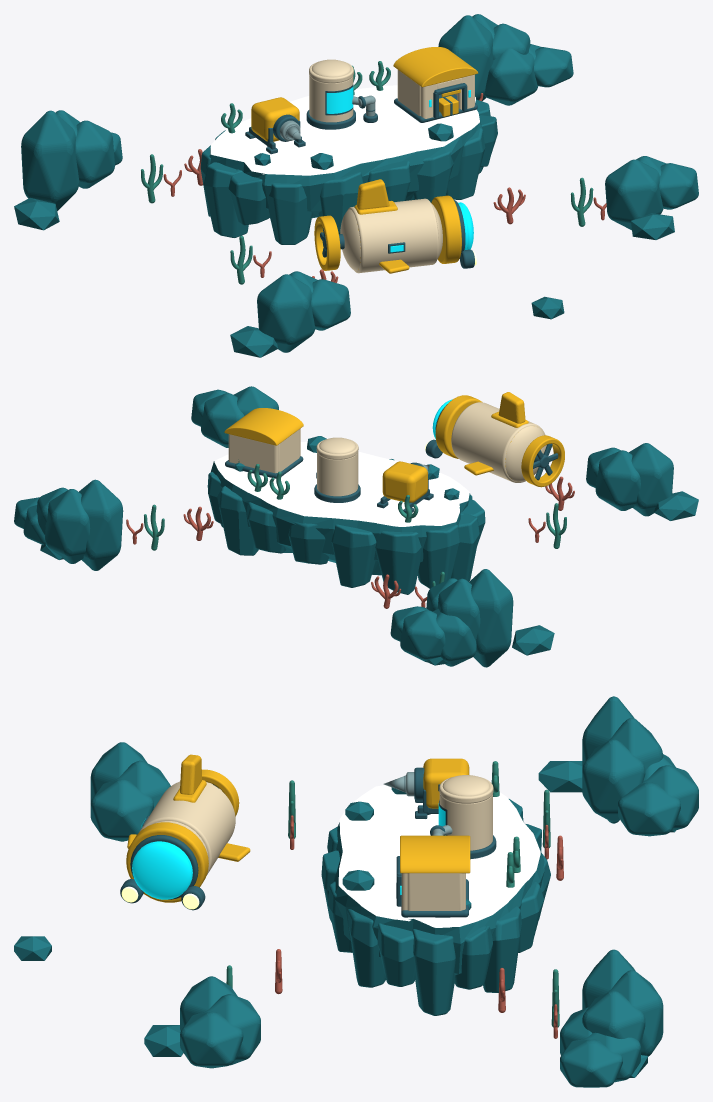
The picture shows the model from 3 angles, top to bottom: view 1: azimuth 30°, elevation 25°; view 2: azimuth 150°, elevation 25°; view 3: azimuth 270°, elevation 25°; orthographic projection. The views are drawn at different scales.
Parts seen in each view (by area): view 1: Sandy island top, Submarine main hull, Distant rock pillar, Faceted rocky island, Distant rock pillar.012, Distant rock pillar.015, Distant rock pillar.006, Distant rock pillar.009, Cliff column.010, Distant rock pillar.002, Curved golden roof, Cliff column.008 (+23 smaller); view 2: Sandy island top, Submarine main hull, Faceted rocky island, Distant rock pillar, Distant rock pillar.006, Distant rock pillar.007, Cliff column.006, Cliff column.005, Distant rock pillar.012, Distant rock pillar.013, Curved golden roof, Cliff column.007 (+26 smaller); view 3: Sandy island top, Submarine main hull, Distant rock pillar.002, Faceted rocky island, Cliff column, Distant rock pillar.014, Distant rock pillar.017, Curved golden roof, Domed glass, Distant rock pillar.005, Distant rock pillar.011, Distant rock pillar.008 (+29 smaller).
Boxes of the visible parts, box(x1,y1,x2,y2) form: Sandy island top: box(210, 85, 479, 175); Submarine main hull: box(347, 198, 438, 273); Distant rock pillar: box(21, 110, 79, 210); Faceted rocky island: box(209, 101, 483, 218); Distant rock pillar.012: box(257, 274, 315, 352); Distant rock pillar.015: box(605, 159, 663, 230); Distant rock pillar.006: box(438, 15, 493, 101); Distant rock pillar.009: box(484, 48, 537, 105); Cliff column.010: box(268, 183, 312, 244); Distant rock pillar.002: box(75, 120, 114, 188); Curved golden roof: box(393, 47, 478, 87); Cliff column.008: box(203, 162, 248, 237); Sandy island top: box(214, 441, 469, 526); Submarine main hull: box(451, 402, 545, 482); Faceted rocky island: box(211, 461, 472, 575); Distant rock pillar: box(469, 569, 513, 667); Distant rock pillar.006: box(79, 479, 123, 570); Distant rock pillar.007: box(45, 489, 90, 563); Cliff column.006: box(375, 531, 421, 594); Cliff column.005: box(331, 524, 376, 587); Distant rock pillar.012: box(629, 443, 673, 516); Distant rock pillar.013: box(595, 450, 640, 510); Curved golden roof: box(224, 408, 303, 445); Cliff column.007: box(417, 525, 459, 588); Sandy island top: box(338, 785, 540, 927); Submarine main hull: box(139, 781, 235, 875); Distant rock pillar.002: box(582, 739, 645, 821); Faceted rocky island: box(332, 820, 545, 975); Cliff column: box(412, 929, 455, 1015); Distant rock pillar.014: box(90, 779, 153, 841); Distant rock pillar.017: box(180, 1011, 243, 1068); Curved golden roof: box(400, 835, 470, 873); Domed glass: box(132, 842, 191, 899); Distant rock pillar.005: box(618, 782, 680, 836); Distant rock pillar.011: box(560, 1039, 622, 1087); Distant rock pillar.008: box(582, 991, 645, 1046).
Size of what is drawn, in the model's own units: 17.5 by 4.24 by 15.33.
